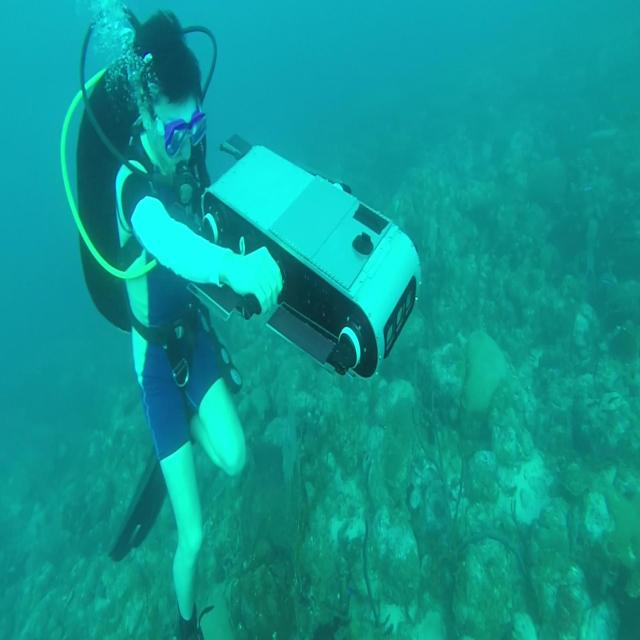human: (62, 3, 285, 638)
